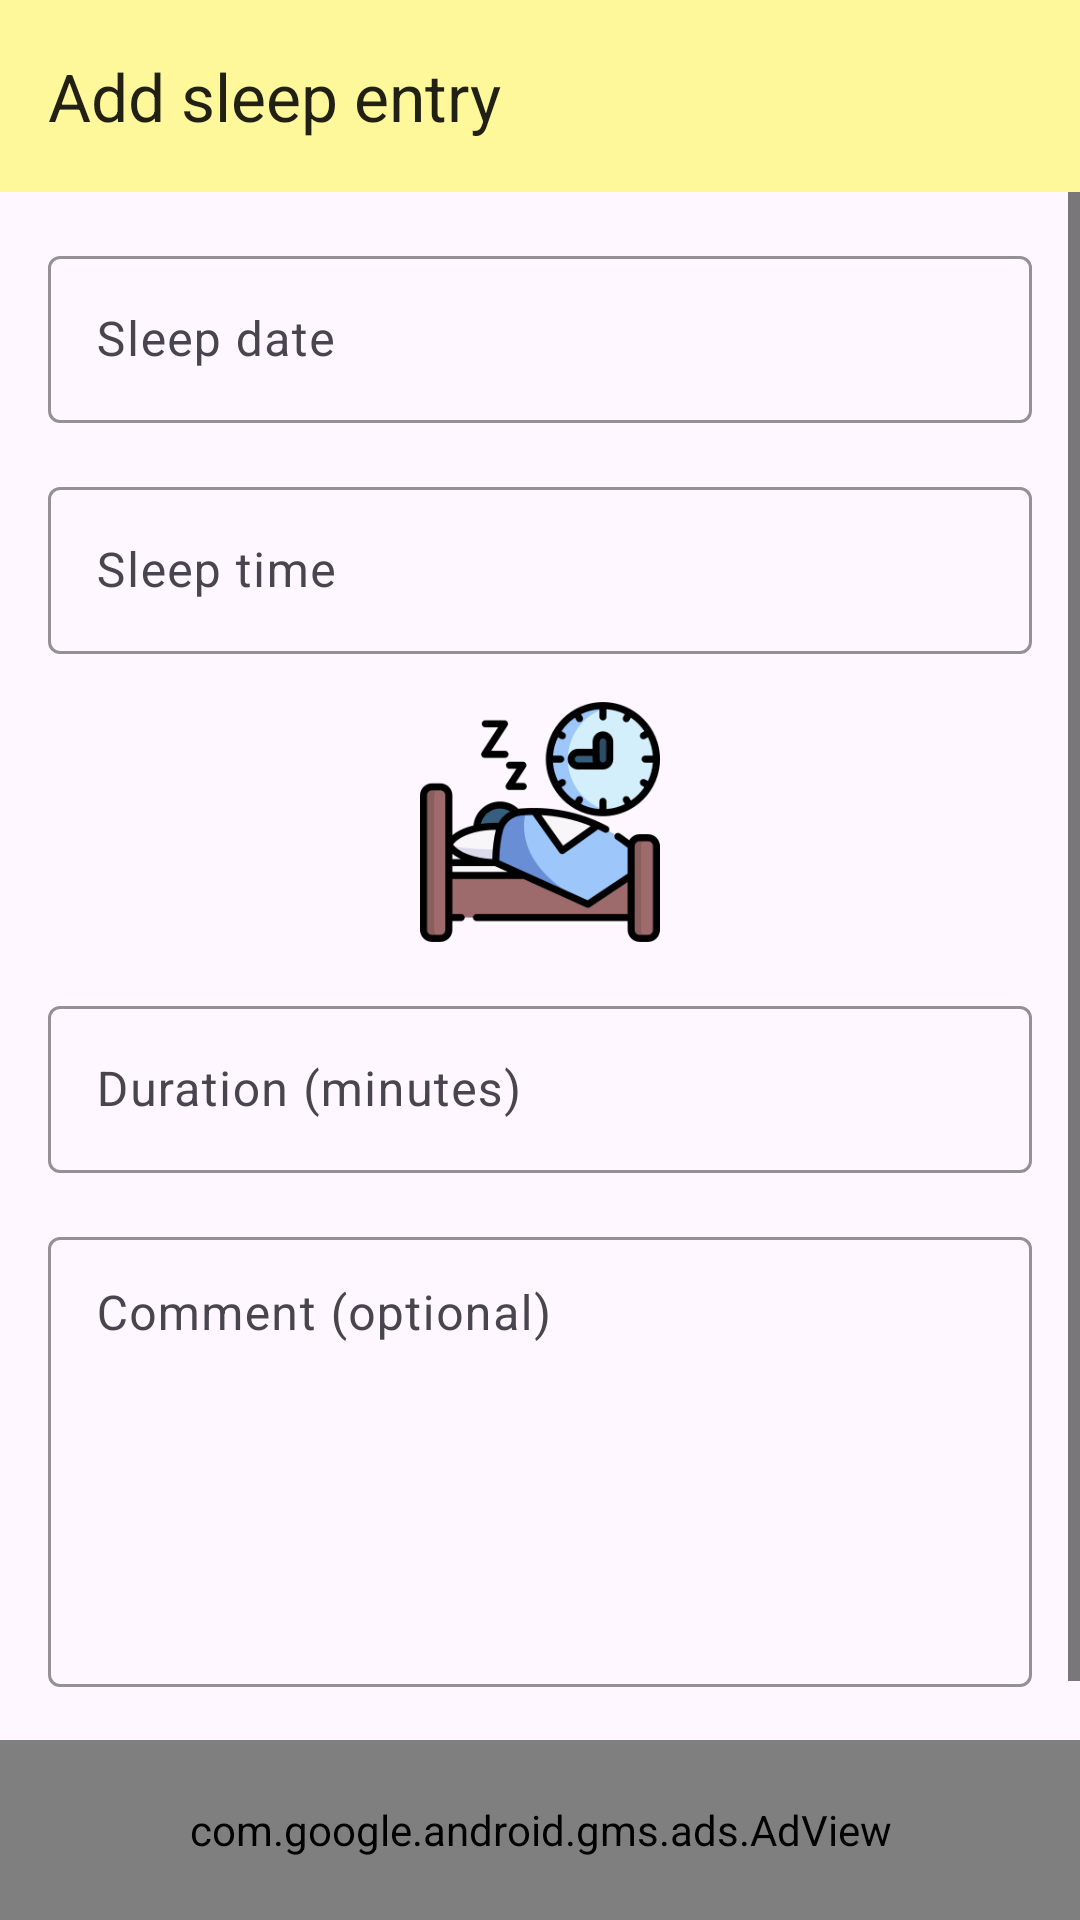

Icons on this 1080×1920 Android screen, each with its box as rect(x1, y1, x2, y2):
sleep add: rect(420, 702, 660, 942)
